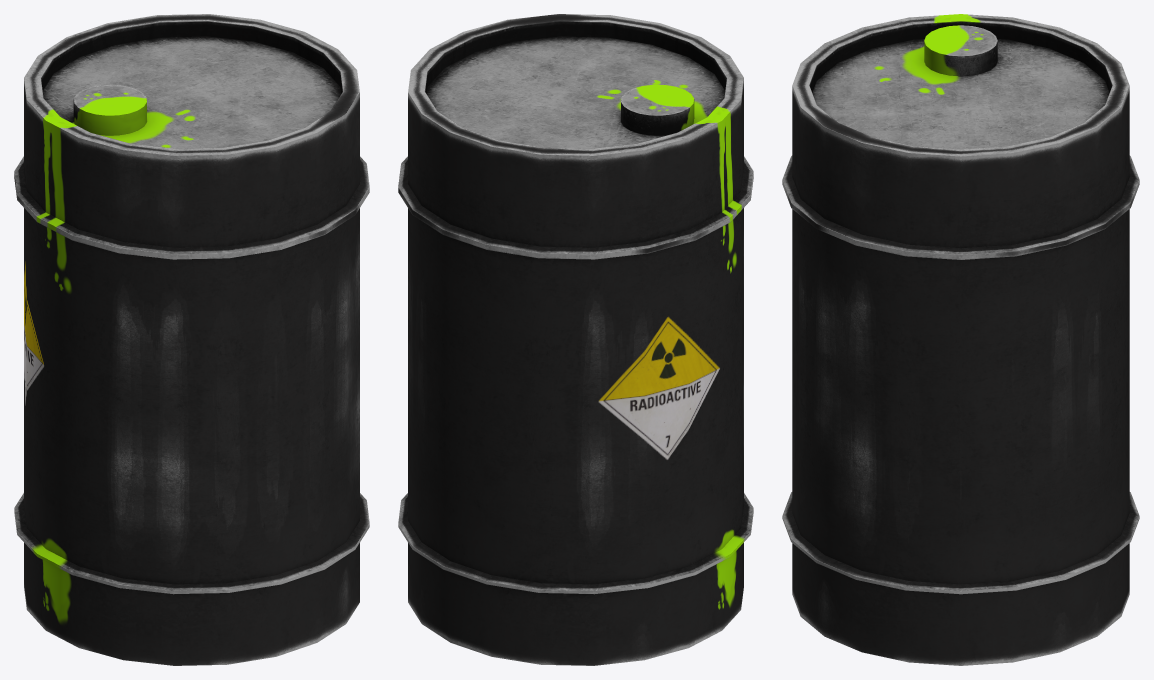
Rendered from Metal_Barrel.Fbx.
3 views of the same model, side by side, from view 1: azimuth 30°, elevation 25°; view 2: azimuth 150°, elevation 25°; view 3: azimuth 270°, elevation 25° (orthographic).
Visible parts, largest first — view 1: MetalBarrel; view 2: MetalBarrel; view 3: MetalBarrel.
Part boxes in pixels (<box>): MetalBarrel: <box>14,14,369,665</box>; MetalBarrel: <box>398,14,753,665</box>; MetalBarrel: <box>782,14,1139,665</box>.
Size of the model in its own units: 635 by 1009 by 635.
